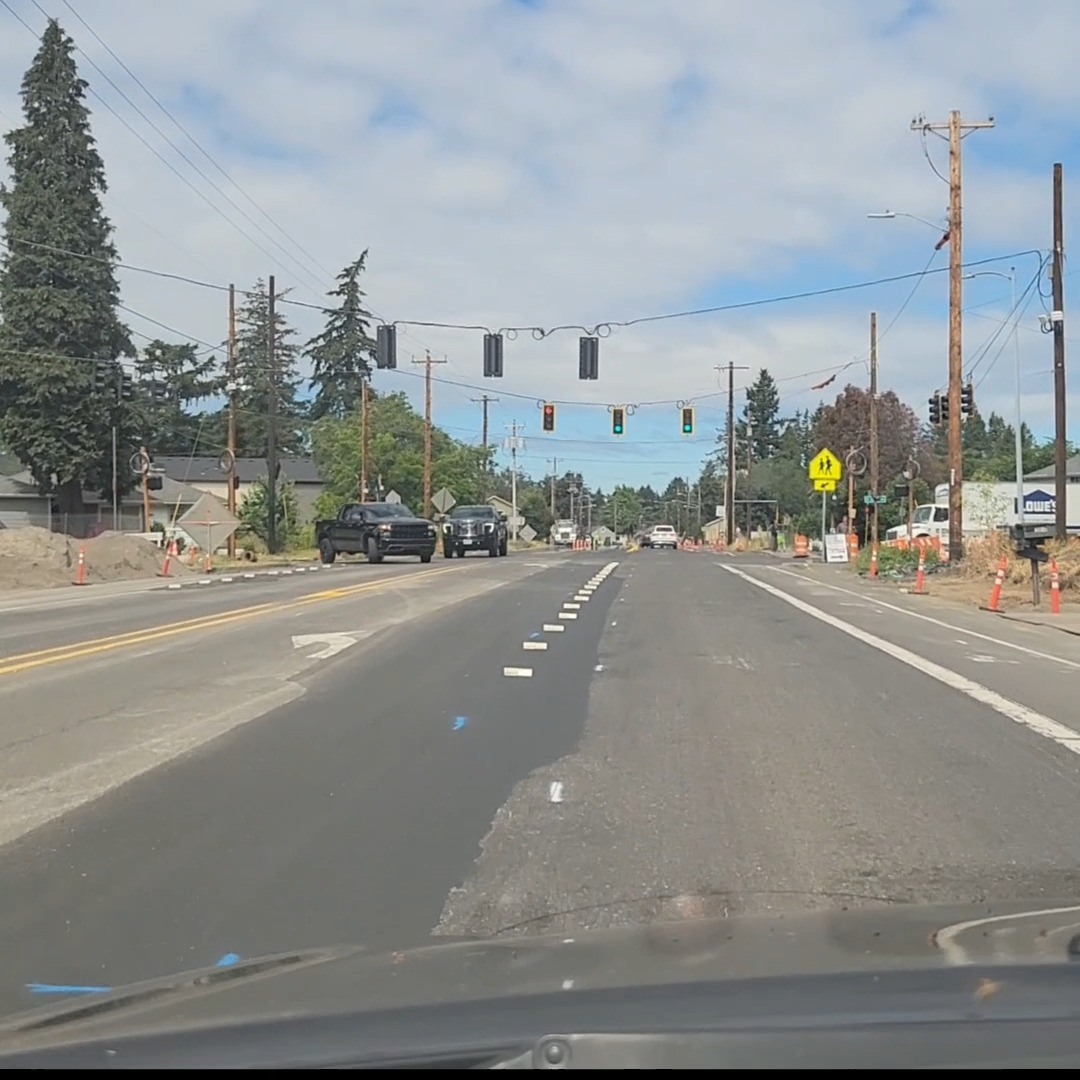car: (316, 501, 439, 564), (439, 504, 509, 558), (641, 524, 679, 549)
crosswalk-sign: (808, 447, 841, 489)
delineator: (987, 558, 1009, 612), (909, 539, 929, 592), (157, 537, 179, 576), (1048, 563, 1064, 613), (71, 544, 89, 585), (869, 539, 879, 575), (202, 547, 213, 572), (187, 544, 198, 566), (166, 537, 178, 556), (894, 535, 908, 550)
